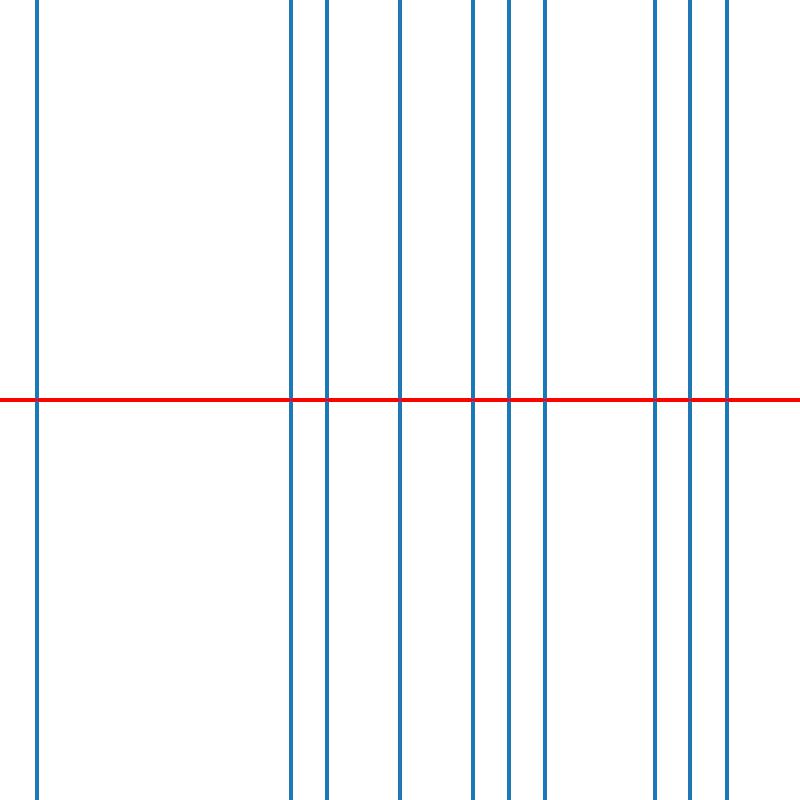root: (32, 396, 40, 404), (541, 396, 549, 404), (650, 396, 658, 404), (505, 396, 512, 404), (287, 396, 294, 404), (723, 396, 730, 404), (687, 396, 694, 404), (323, 396, 330, 404), (469, 396, 476, 404), (396, 396, 403, 404)
